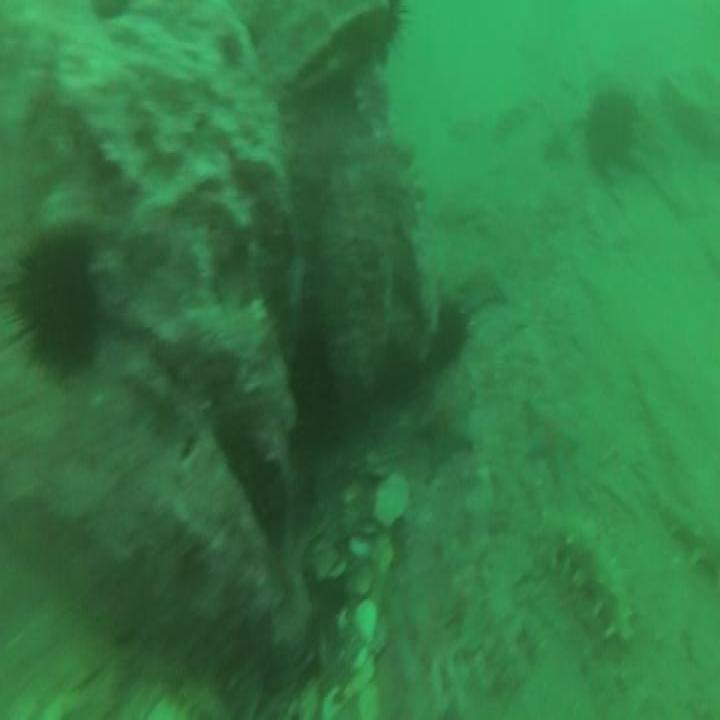echinus: (17, 236, 93, 368), (286, 324, 338, 414), (584, 89, 632, 171), (436, 304, 467, 356)
holothurian: (534, 512, 634, 642), (662, 494, 720, 583)
scallop: (374, 476, 412, 530)
starfish: (420, 386, 478, 466), (524, 394, 577, 481), (461, 263, 506, 315)
